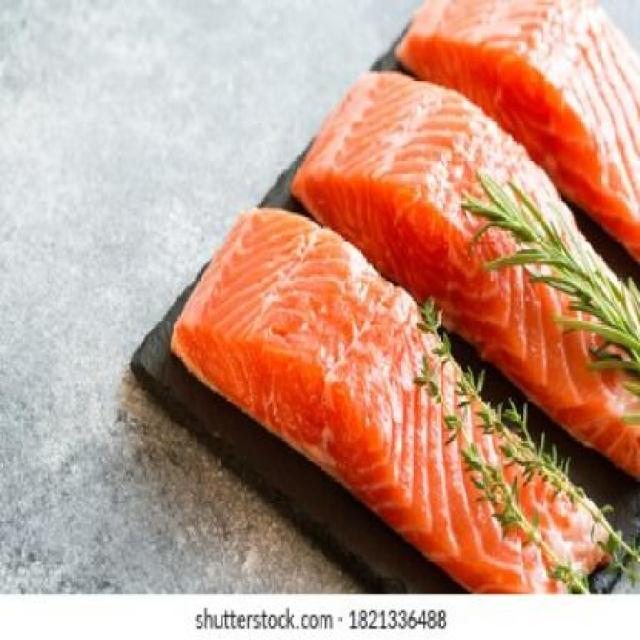salmon: (174, 200, 625, 595), (292, 48, 640, 488), (391, 5, 640, 258)
